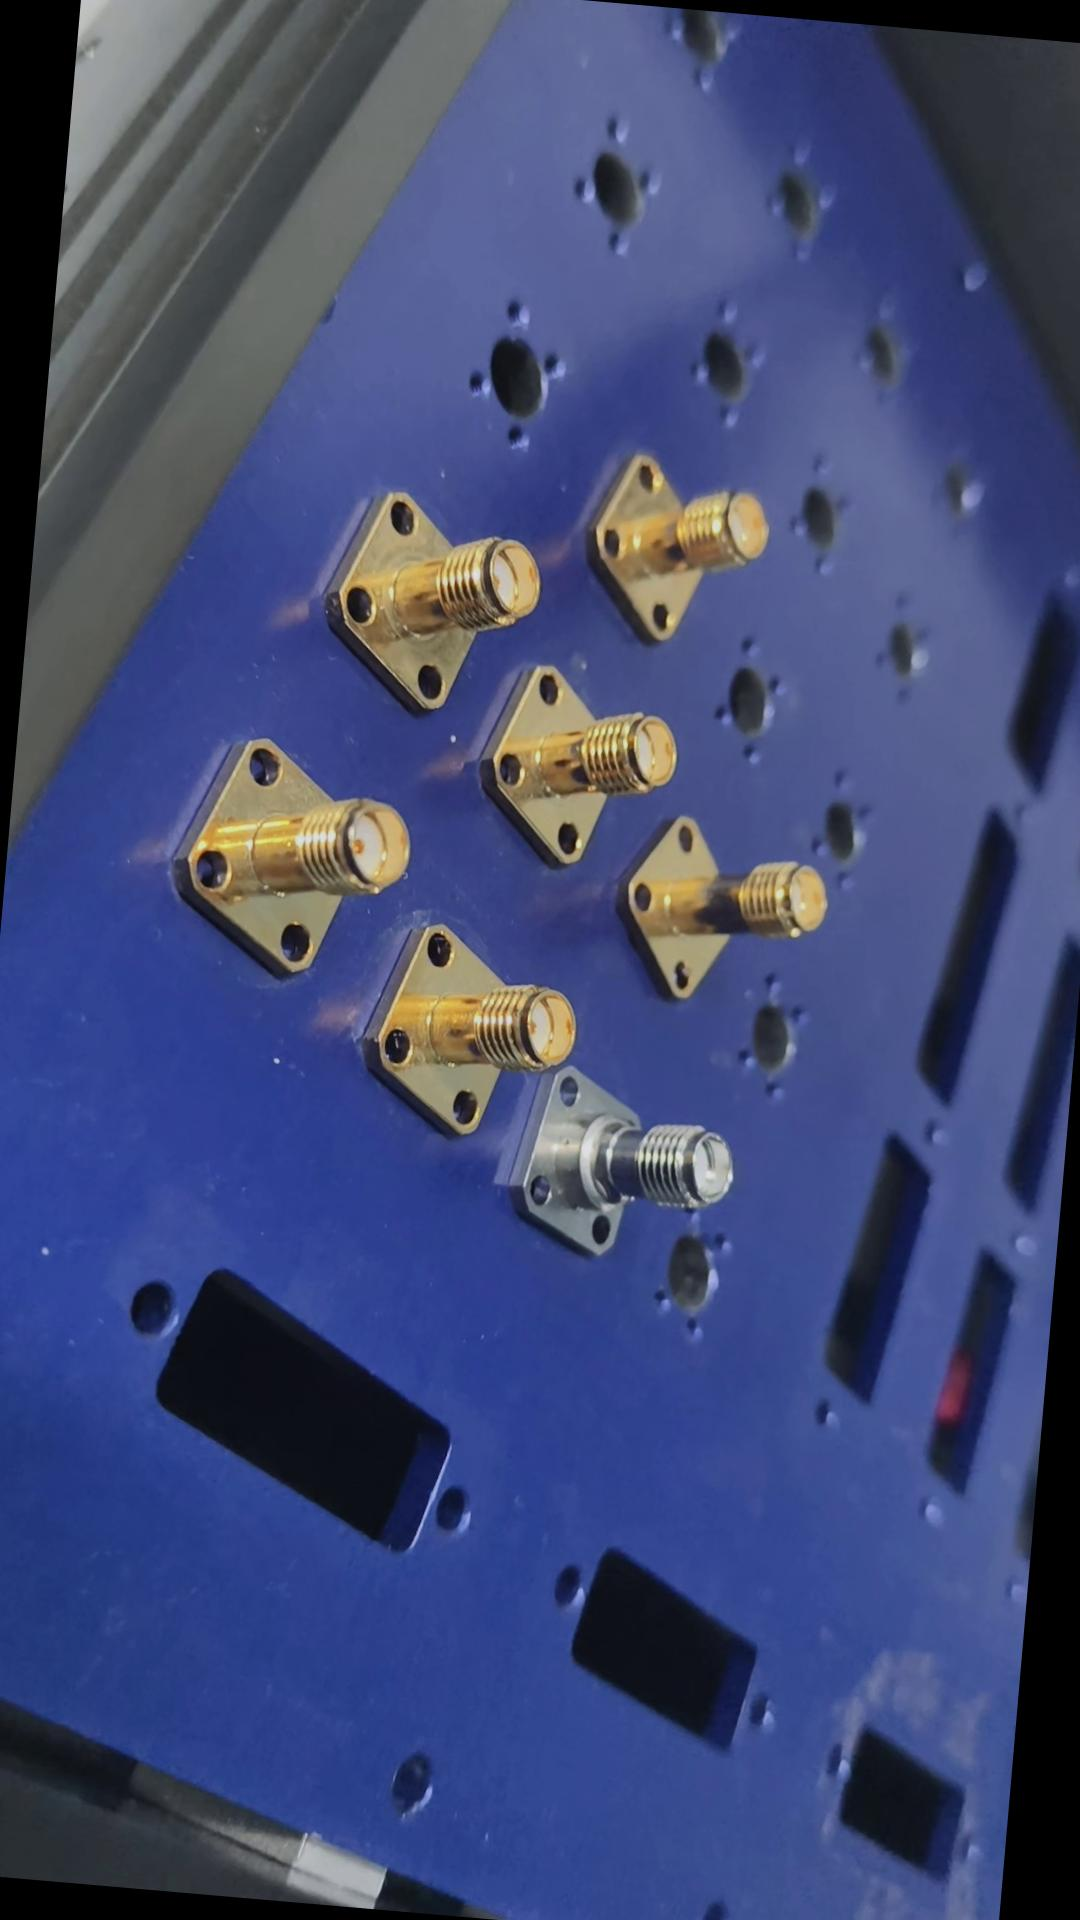SMA: (661, 735, 916, 986), (538, 485, 765, 728), (327, 1044, 570, 1269), (492, 918, 713, 1139), (396, 649, 609, 872), (245, 800, 459, 1006), (305, 442, 497, 653)
